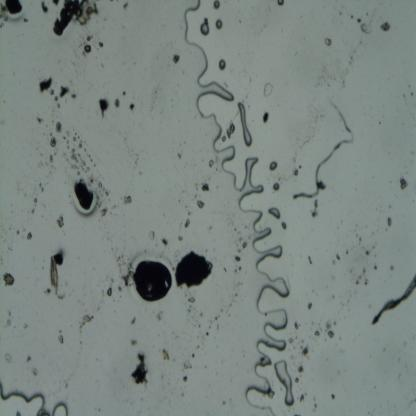Air bubble: (195, 106, 234, 154), (184, 0, 209, 70), (0, 383, 46, 416), (194, 70, 235, 106), (216, 145, 248, 191), (250, 224, 283, 267), (254, 266, 290, 304), (272, 358, 295, 407), (246, 379, 274, 416), (240, 156, 264, 198), (256, 304, 290, 330), (255, 330, 287, 354), (236, 102, 252, 148), (238, 197, 264, 224), (251, 351, 272, 380), (51, 401, 70, 416), (268, 207, 281, 220), (200, 22, 210, 37), (218, 58, 226, 72), (269, 161, 278, 171), (213, 0, 221, 10), (215, 19, 222, 30), (272, 183, 280, 192), (280, 222, 287, 230), (278, 0, 284, 6)
Background material: (134, 257, 174, 304), (53, 0, 98, 37), (74, 176, 96, 215), (129, 352, 151, 386), (316, 66, 332, 88), (120, 267, 135, 290), (96, 181, 109, 200), (51, 248, 64, 266), (98, 97, 109, 118), (262, 79, 274, 97), (312, 199, 323, 218), (228, 291, 238, 311), (39, 78, 53, 92), (80, 313, 96, 325), (2, 271, 14, 287), (292, 161, 304, 177), (96, 290, 105, 310), (114, 252, 125, 268), (58, 84, 70, 98), (359, 24, 373, 35), (56, 329, 65, 346), (226, 121, 234, 140), (133, 151, 142, 167), (121, 194, 133, 206), (379, 21, 392, 32), (160, 348, 170, 362), (398, 177, 408, 191), (64, 372, 71, 390), (70, 148, 78, 163), (54, 94, 62, 109), (31, 366, 41, 378), (79, 159, 88, 172), (201, 181, 210, 194), (126, 258, 135, 271), (99, 204, 106, 220), (148, 229, 156, 243), (56, 215, 64, 229), (155, 311, 165, 322), (302, 347, 311, 359), (42, 0, 48, 17), (82, 44, 92, 54), (56, 292, 67, 301), (408, 396, 416, 408), (208, 158, 216, 170), (113, 97, 120, 110), (326, 329, 334, 340), (324, 36, 332, 47), (50, 136, 57, 148), (87, 172, 93, 186), (263, 110, 269, 124), (268, 389, 275, 401), (196, 200, 204, 210), (68, 162, 78, 170), (312, 395, 317, 411), (42, 288, 52, 296), (355, 274, 363, 284), (324, 319, 330, 332), (106, 286, 112, 299), (56, 122, 62, 134), (297, 365, 305, 374), (6, 308, 10, 326), (320, 181, 328, 190), (4, 352, 10, 364), (186, 304, 193, 314), (130, 102, 137, 112), (173, 55, 180, 65), (234, 265, 242, 273), (298, 394, 306, 402), (184, 361, 192, 369), (340, 78, 346, 88), (306, 254, 312, 264), (26, 231, 32, 241), (86, 34, 93, 42), (36, 116, 43, 124), (97, 40, 104, 48), (130, 339, 137, 347), (189, 297, 197, 304), (161, 238, 169, 245), (66, 138, 71, 149), (351, 267, 356, 278), (347, 294, 352, 305), (184, 218, 190, 227), (387, 217, 393, 226), (0, 254, 4, 267), (110, 276, 115, 286), (402, 92, 407, 102), (366, 409, 373, 416), (71, 92, 77, 100), (49, 88, 55, 96), (229, 398, 233, 410), (22, 321, 28, 329), (403, 340, 409, 348), (306, 302, 312, 310), (331, 391, 336, 400), (362, 267, 367, 276), (39, 183, 44, 192), (214, 314, 220, 321), (78, 140, 83, 148), (398, 372, 403, 380), (294, 321, 298, 331), (118, 285, 123, 293), (221, 135, 226, 143), (34, 196, 39, 204), (194, 183, 199, 191), (177, 151, 182, 159), (122, 1, 128, 7), (131, 316, 135, 325), (53, 0, 59, 6), (315, 331, 321, 337), (27, 354, 31, 363), (7, 245, 13, 251), (358, 236, 362, 245), (235, 228, 240, 235), (222, 399, 226, 407), (346, 248, 350, 256), (49, 155, 53, 163), (332, 257, 336, 265), (88, 154, 92, 162), (336, 253, 340, 261), (350, 56, 354, 64), (390, 264, 394, 272), (180, 392, 185, 398), (294, 378, 300, 383), (235, 256, 240, 262), (338, 10, 344, 15), (290, 337, 294, 344), (66, 131, 70, 138), (31, 207, 35, 214), (364, 278, 368, 285), (209, 321, 212, 330), (300, 338, 305, 343), (177, 236, 182, 241), (357, 18, 362, 23), (183, 376, 187, 382), (122, 90, 126, 96), (340, 302, 344, 308), (23, 18, 29, 22), (294, 412, 300, 416), (206, 331, 210, 337), (237, 248, 241, 254), (240, 236, 243, 244), (198, 312, 204, 316), (330, 294, 334, 300), (388, 204, 392, 210), (371, 230, 375, 236), (374, 264, 378, 270), (338, 369, 341, 376), (366, 249, 369, 256), (139, 171, 143, 176), (243, 244, 247, 249), (196, 344, 200, 349), (120, 293, 124, 298), (198, 324, 202, 329), (16, 230, 20, 235), (372, 245, 376, 250), (411, 91, 414, 97), (228, 313, 232, 317), (350, 14, 354, 18), (76, 135, 80, 139), (365, 12, 369, 16), (223, 267, 226, 272), (300, 345, 303, 350), (378, 120, 381, 125), (355, 233, 358, 238), (334, 321, 336, 327), (217, 324, 219, 330), (73, 136, 76, 140), (385, 227, 388, 231), (84, 148, 87, 152), (75, 132, 77, 137), (296, 335, 298, 340), (192, 353, 194, 358), (64, 136, 66, 140), (222, 308, 224, 312), (375, 254, 377, 258), (94, 165, 96, 168), (409, 84, 410, 87)
Cellulose filter fibre: (292, 100, 357, 201), (370, 274, 416, 326)
Diatom: (50, 256, 57, 295)
Fragment: (173, 246, 214, 292)
